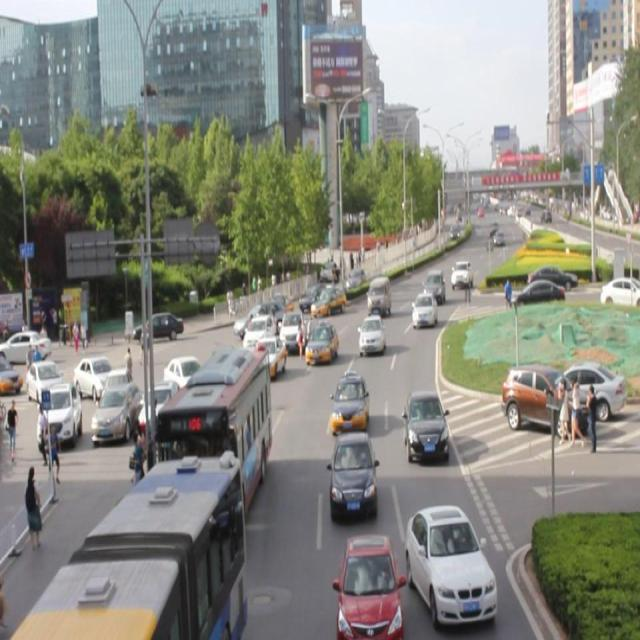car: (407, 508, 496, 622), (338, 533, 400, 640), (329, 434, 376, 516), (404, 390, 448, 463), (235, 302, 288, 342), (332, 374, 368, 432), (211, 345, 245, 395), (248, 334, 288, 376), (304, 316, 338, 362), (311, 279, 348, 315), (278, 304, 307, 348), (243, 317, 276, 353), (358, 316, 384, 357), (411, 294, 436, 329), (422, 272, 444, 304), (449, 261, 474, 289)
truck: (366, 276, 390, 317)
van: (1, 455, 242, 640), (157, 348, 271, 510)
